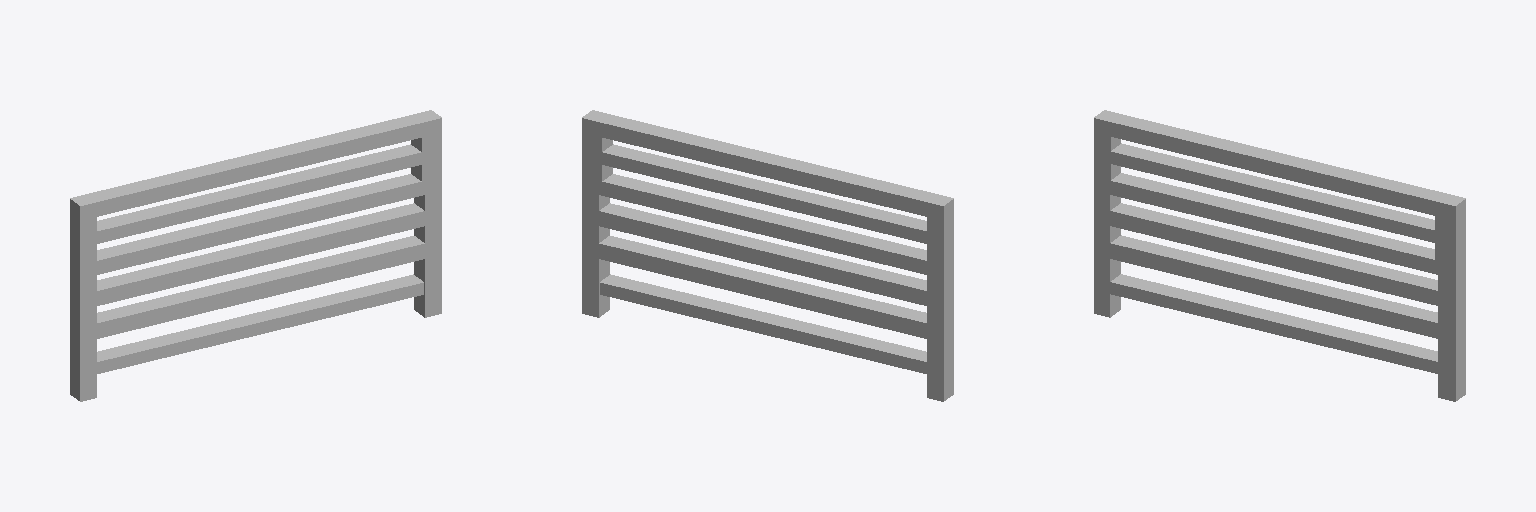
Rendered from 1fence.obj.
The picture shows the model from 3 angles: view 1: azimuth 30°, elevation 25°; view 2: azimuth 150°, elevation 25°; view 3: azimuth 330°, elevation 25°; orthographic projection.
Visible parts, largest first — view 1: Sketchup; view 2: Sketchup; view 3: Sketchup.
Boxes of the visible parts, x1=… form: Sketchup: x1=70, y1=110, x2=441, y2=401; Sketchup: x1=582, y1=110, x2=953, y2=401; Sketchup: x1=1094, y1=110, x2=1465, y2=401.
Bounding box in the file's own units: 35.76 × 18.48 × 1.86.